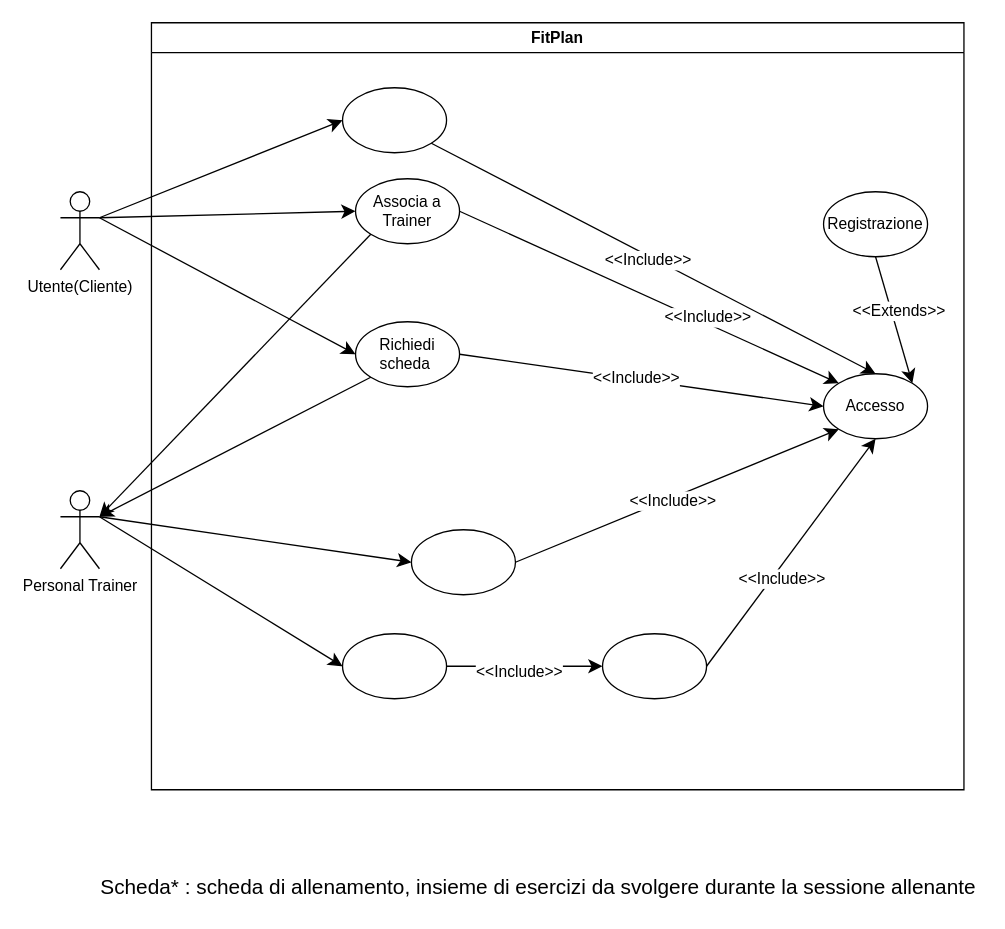
This 1005x929 diagram has some shape labels left out. Each missing label, with the centre of its shape:
Componi scheda: (394,665)
Gestisci richieste di scheda: (654,665)
Gestisci scheda: (394,119)
Valuta richieste di associazione: (462,561)
